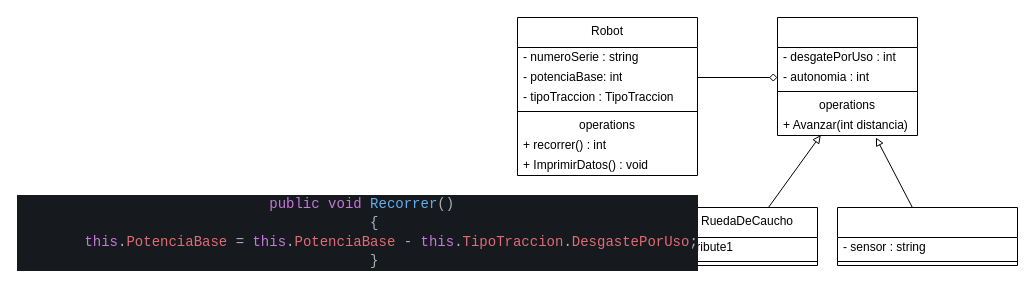
Some shapes in this 1035 by 295 pixel diagram are drawn without their labels. Here are the shapes that lost their labels. From the top down, the box of each, then its label:
(776, 16, 918, 136): TipoTraccion
(836, 206, 1018, 266): Oruga
